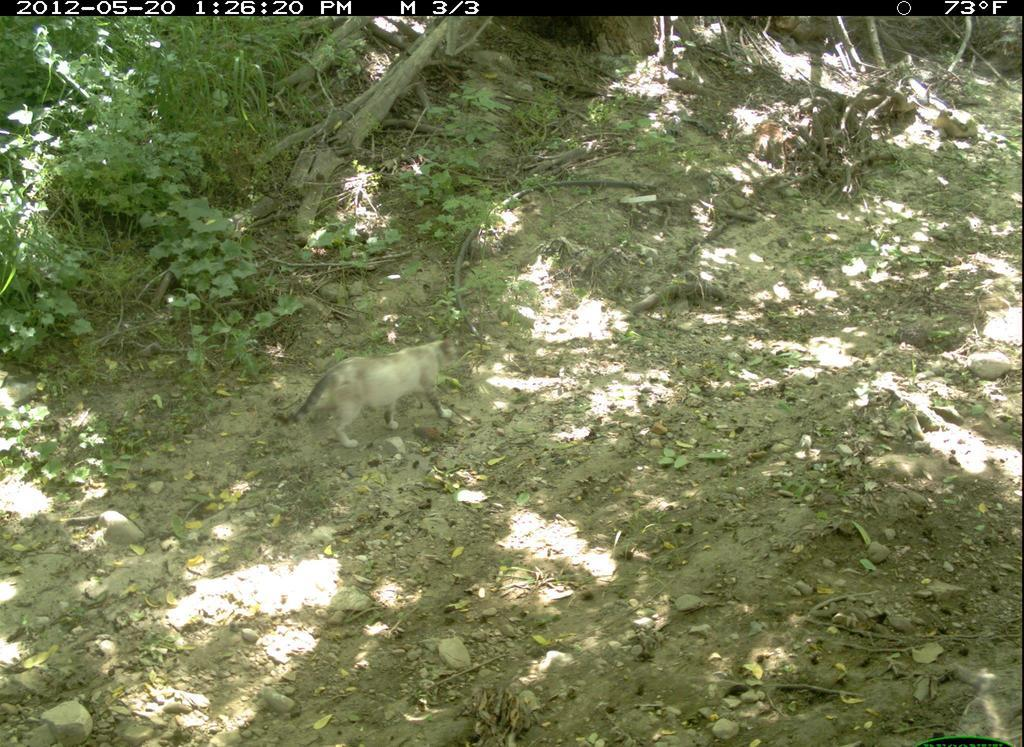cat: (263, 329, 472, 455)
